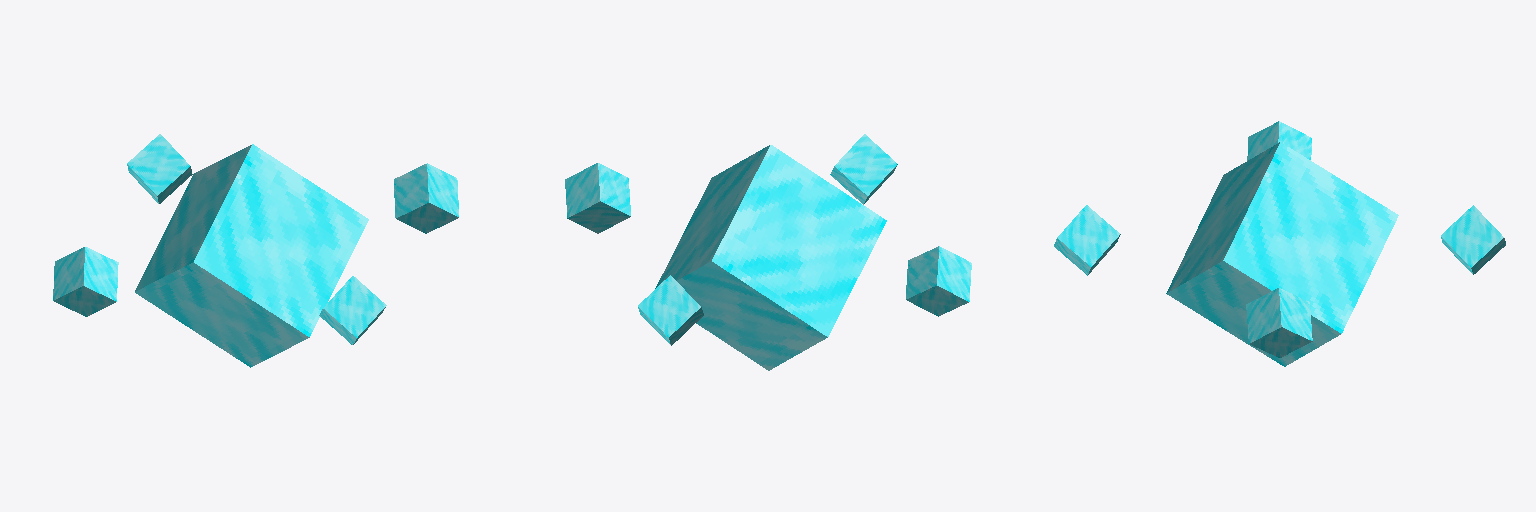
3 views of the same model, side by side, from view 1: azimuth 30°, elevation 25°; view 2: azimuth 150°, elevation 25°; view 3: azimuth 270°, elevation 25° (orthographic).
Visible parts, largest first — view 1: Cube, Cube.002, Cube.001, Cube.004, Cube.003; view 2: Cube, Cube.001, Cube.002, Cube.004, Cube.003; view 3: Cube, Cube.001, Cube.003, Cube.004, Cube.002.
Boxes of the visible parts, <box> form: Cube: <box>135,144,368,367</box>; Cube.002: <box>53,247,118,316</box>; Cube.001: <box>394,163,458,233</box>; Cube.004: <box>127,134,192,203</box>; Cube.003: <box>319,276,386,344</box>; Cube: <box>655,145,886,370</box>; Cube.001: <box>565,163,630,233</box>; Cube.002: <box>906,246,971,316</box>; Cube.004: <box>638,275,703,345</box>; Cube.003: <box>830,134,897,204</box>; Cube: <box>1166,142,1398,366</box>; Cube.001: <box>1246,288,1312,357</box>; Cube.003: <box>1054,205,1120,275</box>; Cube.004: <box>1441,205,1505,274</box>; Cube.002: <box>1247,121,1311,160</box>.
Size of the model in its own units: 0.9332 by 0.4965 by 0.9051.
Materials: 1 (1 with a texture image).